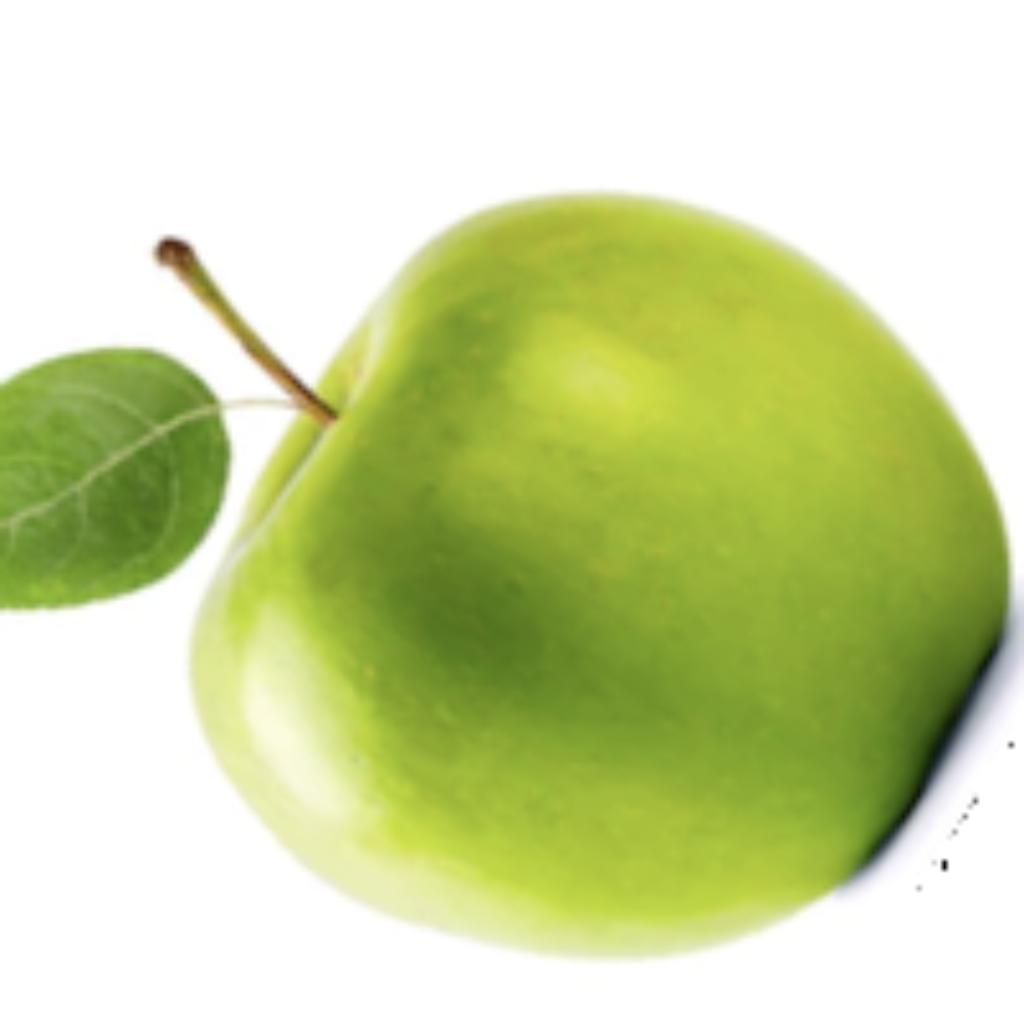apple: (0, 184, 1019, 963)
